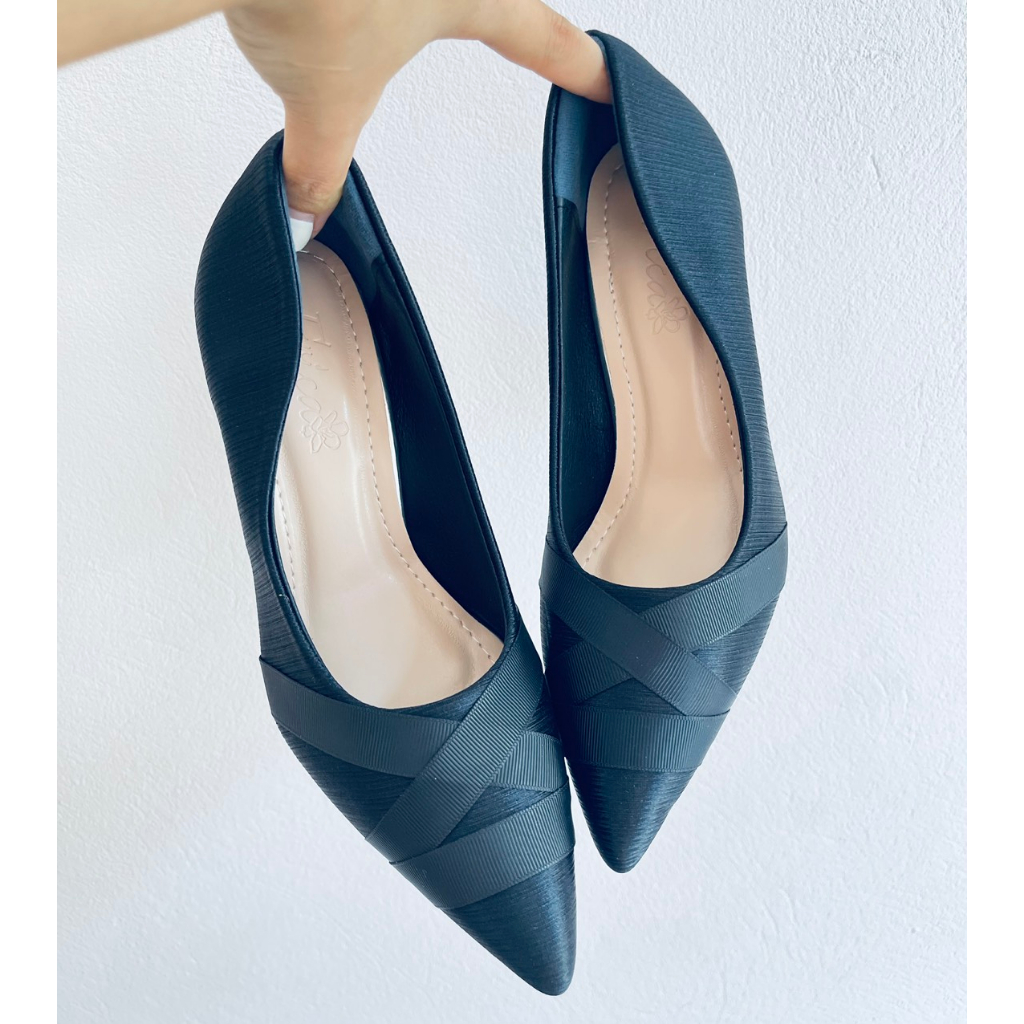high heels: (192, 121, 584, 1001), (536, 27, 792, 875)
